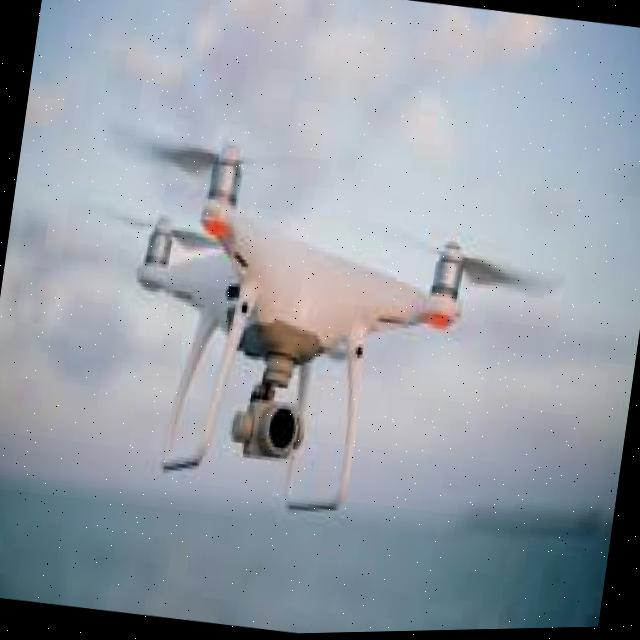drone: (8, 97, 564, 579)
